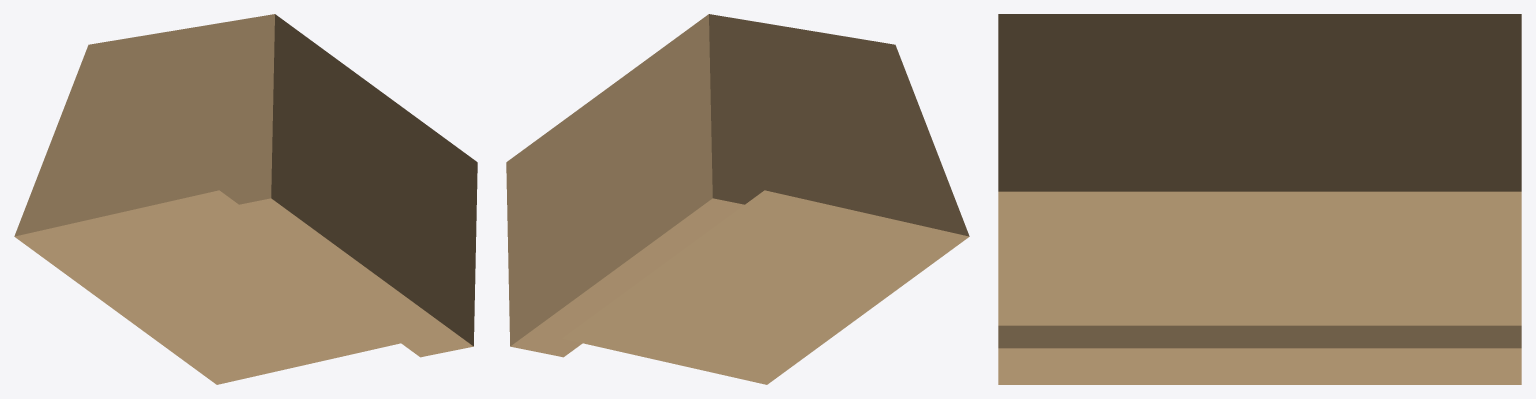
3 views of the same model, side by side, from view 1: azimuth 30°, elevation 25°; view 2: azimuth 150°, elevation 25°; view 3: azimuth 270°, elevation 25° (orthographic). The views are drawn at different scales.
Parts seen in each view (by area): view 1: 0_0_3_1_3_2_3_0_1_0; view 2: 0_0_3_1_3_2_3_0_1_0; view 3: 0_0_3_1_3_2_3_0_1_0.
Boxes of the visible parts, x1,y1,x2,y2 form: 0_0_3_1_3_2_3_0_1_0: (14, 14, 477, 384); 0_0_3_1_3_2_3_0_1_0: (506, 14, 969, 384); 0_0_3_1_3_2_3_0_1_0: (998, 14, 1521, 384).
Bounding box in the file's own units: 15.6 × 11.33 × 21.
